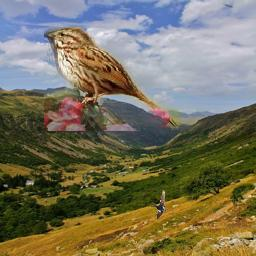Sparrow: (45, 23, 184, 131)
Swallow: (152, 189, 167, 219)
